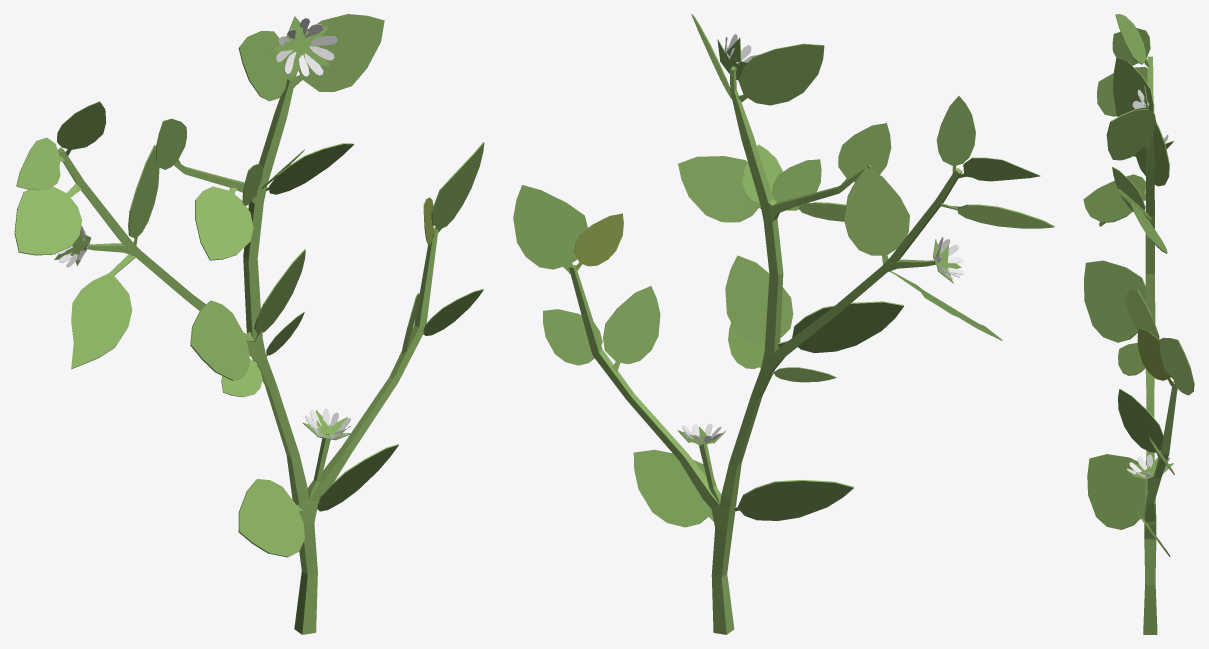
File: chickweed.fbx
3 views of the same model, side by side, from view 1: azimuth 30°, elevation 25°; view 2: azimuth 150°, elevation 25°; view 3: azimuth 270°, elevation 25° (orthographic). The views are drawn at different scales.
Visible parts, largest first — view 1: Plane.004; view 2: Plane.004; view 3: Plane.004.
Boxes of the visible parts, x1,y1,x2,y2 form: Plane.004: (14, 14, 484, 634); Plane.004: (513, 14, 1054, 634); Plane.004: (1083, 14, 1194, 634).
Size of the model in its own units: 264 by 305 by 56.92.
